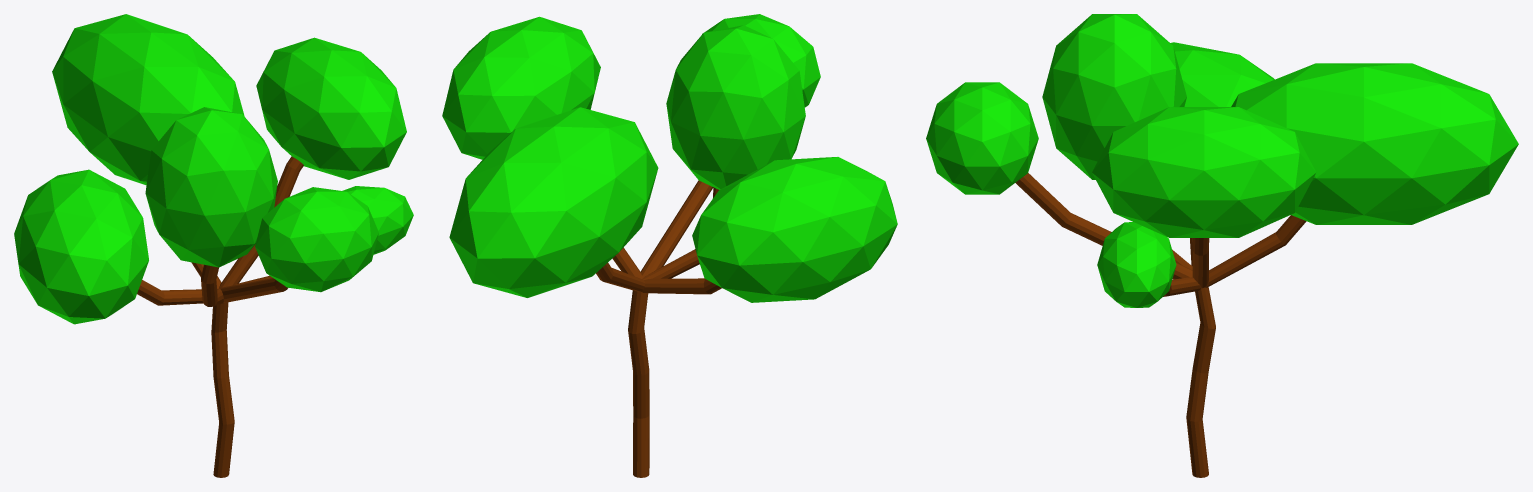
The model's file is Tree_1.fbx.
3 renders of one model, left to right at view 1: azimuth 30°, elevation 25°; view 2: azimuth 150°, elevation 25°; view 3: azimuth 270°, elevation 25°, orthographic. The views are drawn at different scales.
Parts seen in each view (by area): view 1: Icosphere.006, Plane; view 2: Icosphere.006, Plane; view 3: Icosphere.006, Plane.
Part boxes in pixels (<box>): Icosphere.006: <box>14,14,413,324</box>; Plane: <box>137,156,303,477</box>; Icosphere.006: <box>442,14,897,302</box>; Plane: <box>596,180,721,477</box>; Icosphere.006: <box>926,14,1518,307</box>; Plane: <box>1015,173,1306,477</box>.
Bounding box in the file's own units: 330 × 343 × 424.
